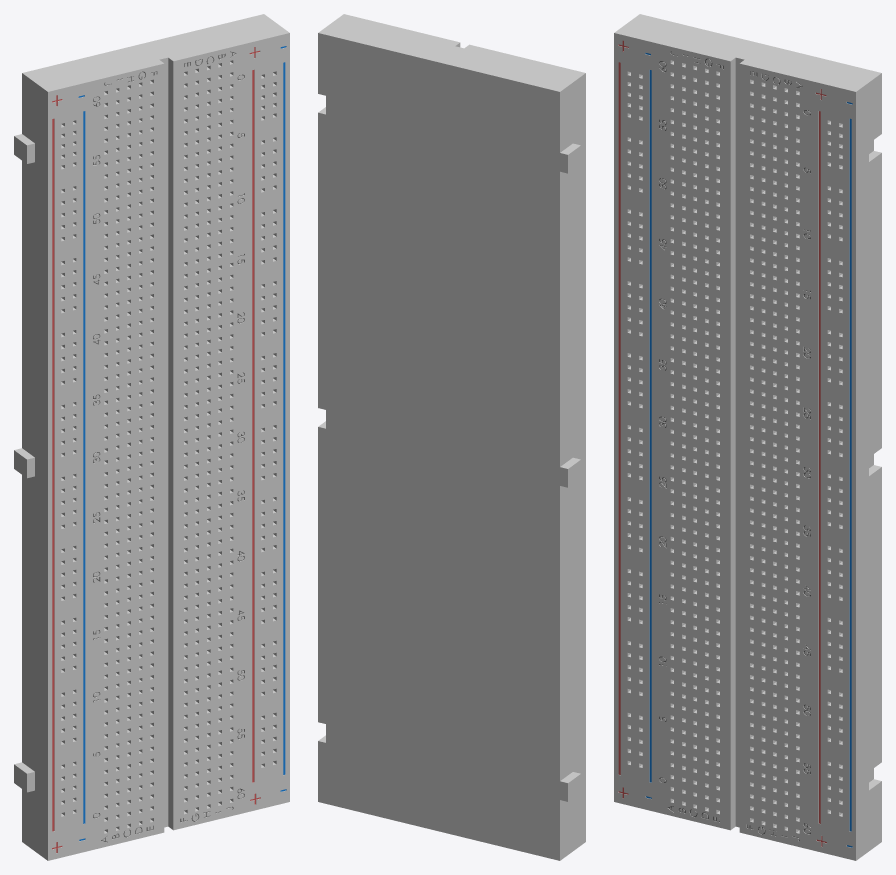
The model's file is breadboard.glb.
3 renders of one model, left to right at view 1: azimuth 30°, elevation 25°; view 2: azimuth 150°, elevation 25°; view 3: azimuth 330°, elevation 25°, orthographic.
Size of the model in its own units: 0.0558 by 0.164 by 0.01.
